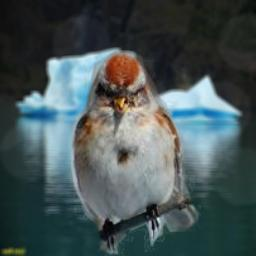Sparrow: (71, 50, 201, 256)
